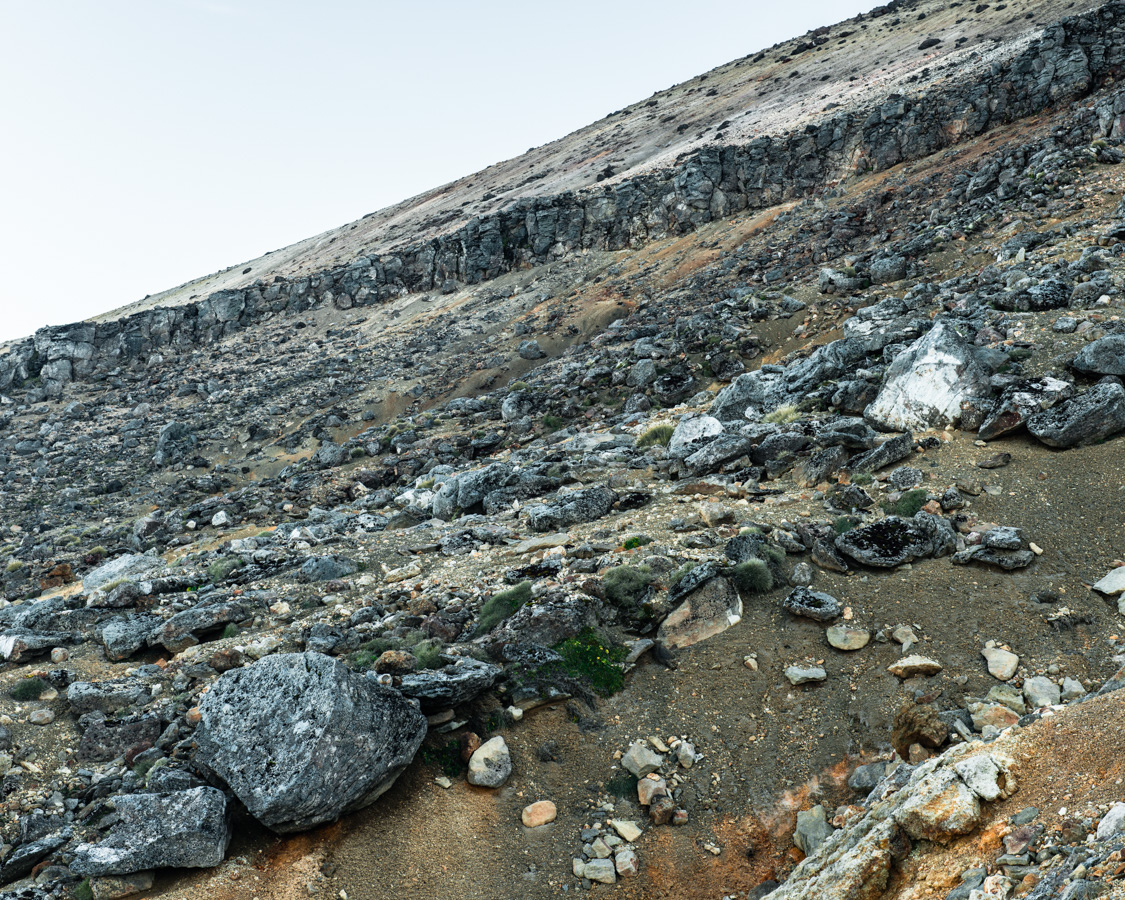volcanic_rock: (838, 22, 1112, 302), (1, 519, 318, 655), (672, 319, 918, 468), (186, 665, 409, 814), (480, 568, 646, 728), (29, 782, 238, 882), (963, 374, 1125, 454), (700, 508, 820, 605), (823, 508, 952, 582)
